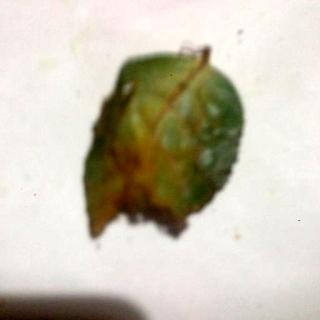Red Leaf Spot: (85, 47, 245, 242)
